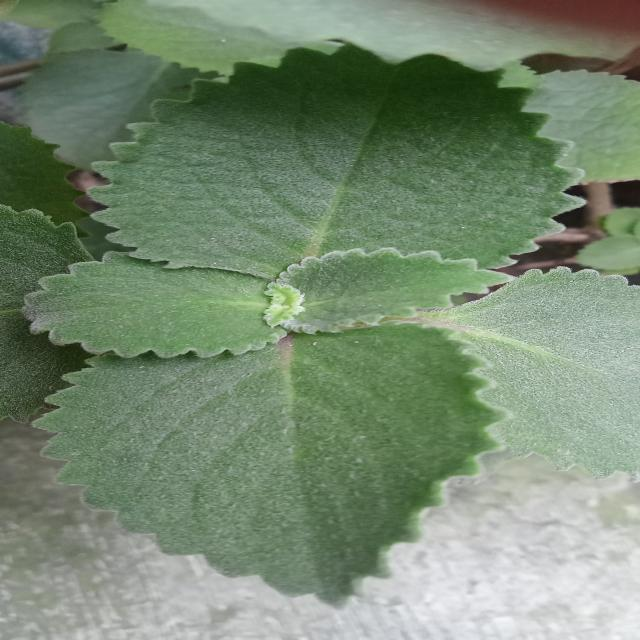Oregano: (15, 37, 602, 595)
